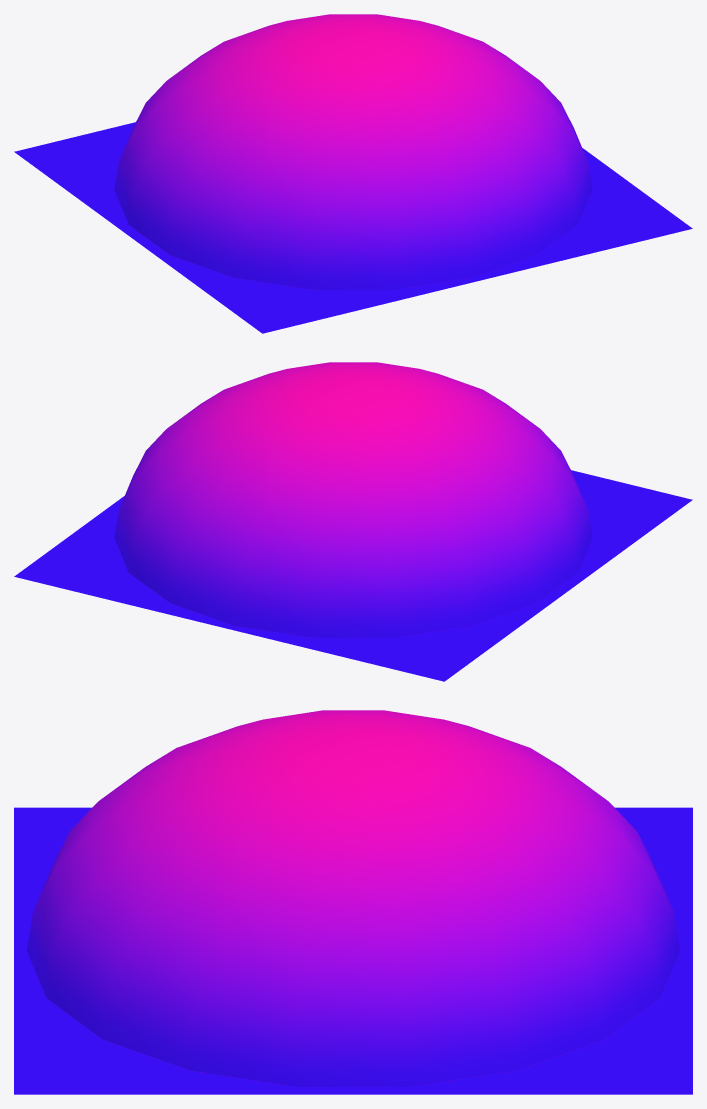
File: set1.glb
The picture shows the model from 3 angles, top to bottom: view 1: azimuth 30°, elevation 25°; view 2: azimuth 150°, elevation 25°; view 3: azimuth 270°, elevation 25°; orthographic projection. The views are drawn at different scales.
Visible parts, largest first — view 1: sky, floor; view 2: sky, floor; view 3: sky, floor.
Part boxes in pixels (x1=…): sky: x1=114, y1=14, x2=592, y2=289; floor: x1=14, y1=122, x2=692, y2=333; sky: x1=114, y1=362, x2=592, y2=637; floor: x1=14, y1=470, x2=692, y2=681; sky: x1=26, y1=710, x2=680, y2=1086; floor: x1=14, y1=807, x2=692, y2=1094.
Size of the model in its own units: 207 by 66.84 by 207.
Materials: 8 (2 with a texture image).
